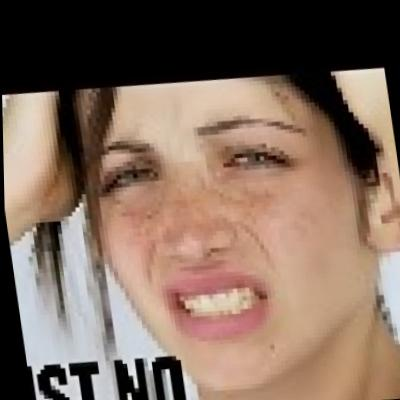angry: (74, 57, 391, 396)
